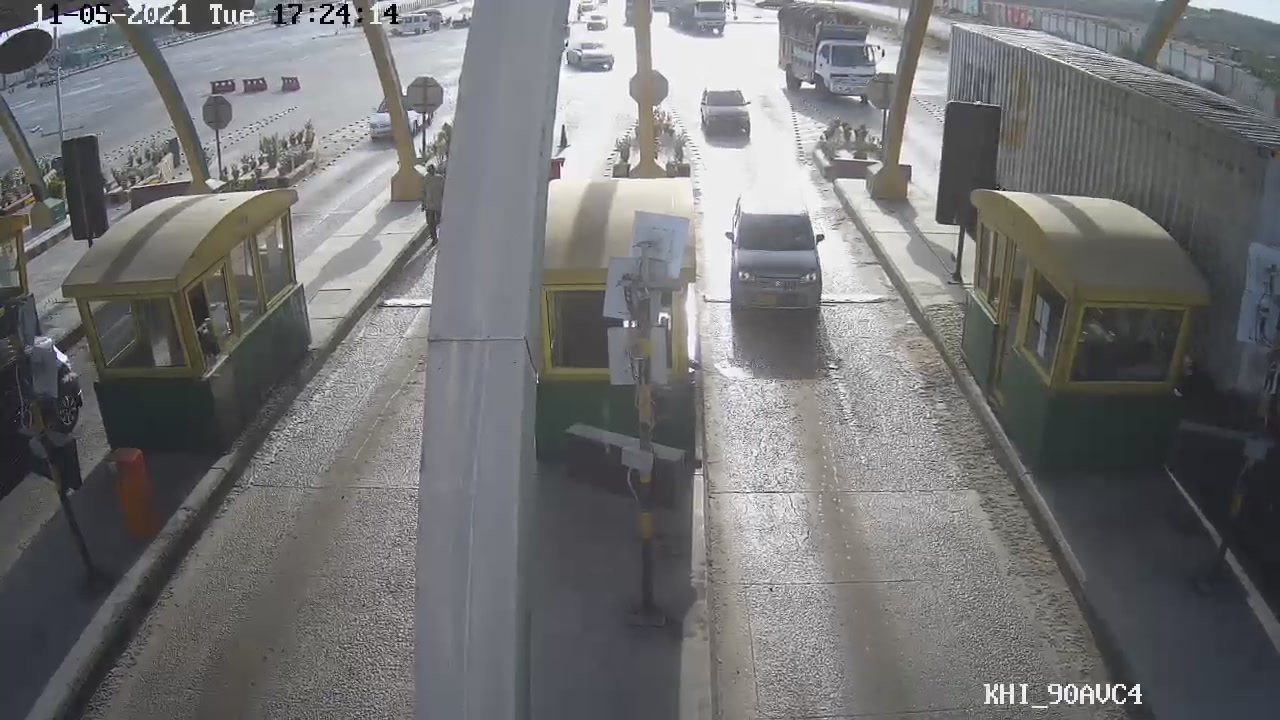F1: (716, 197, 839, 319)
